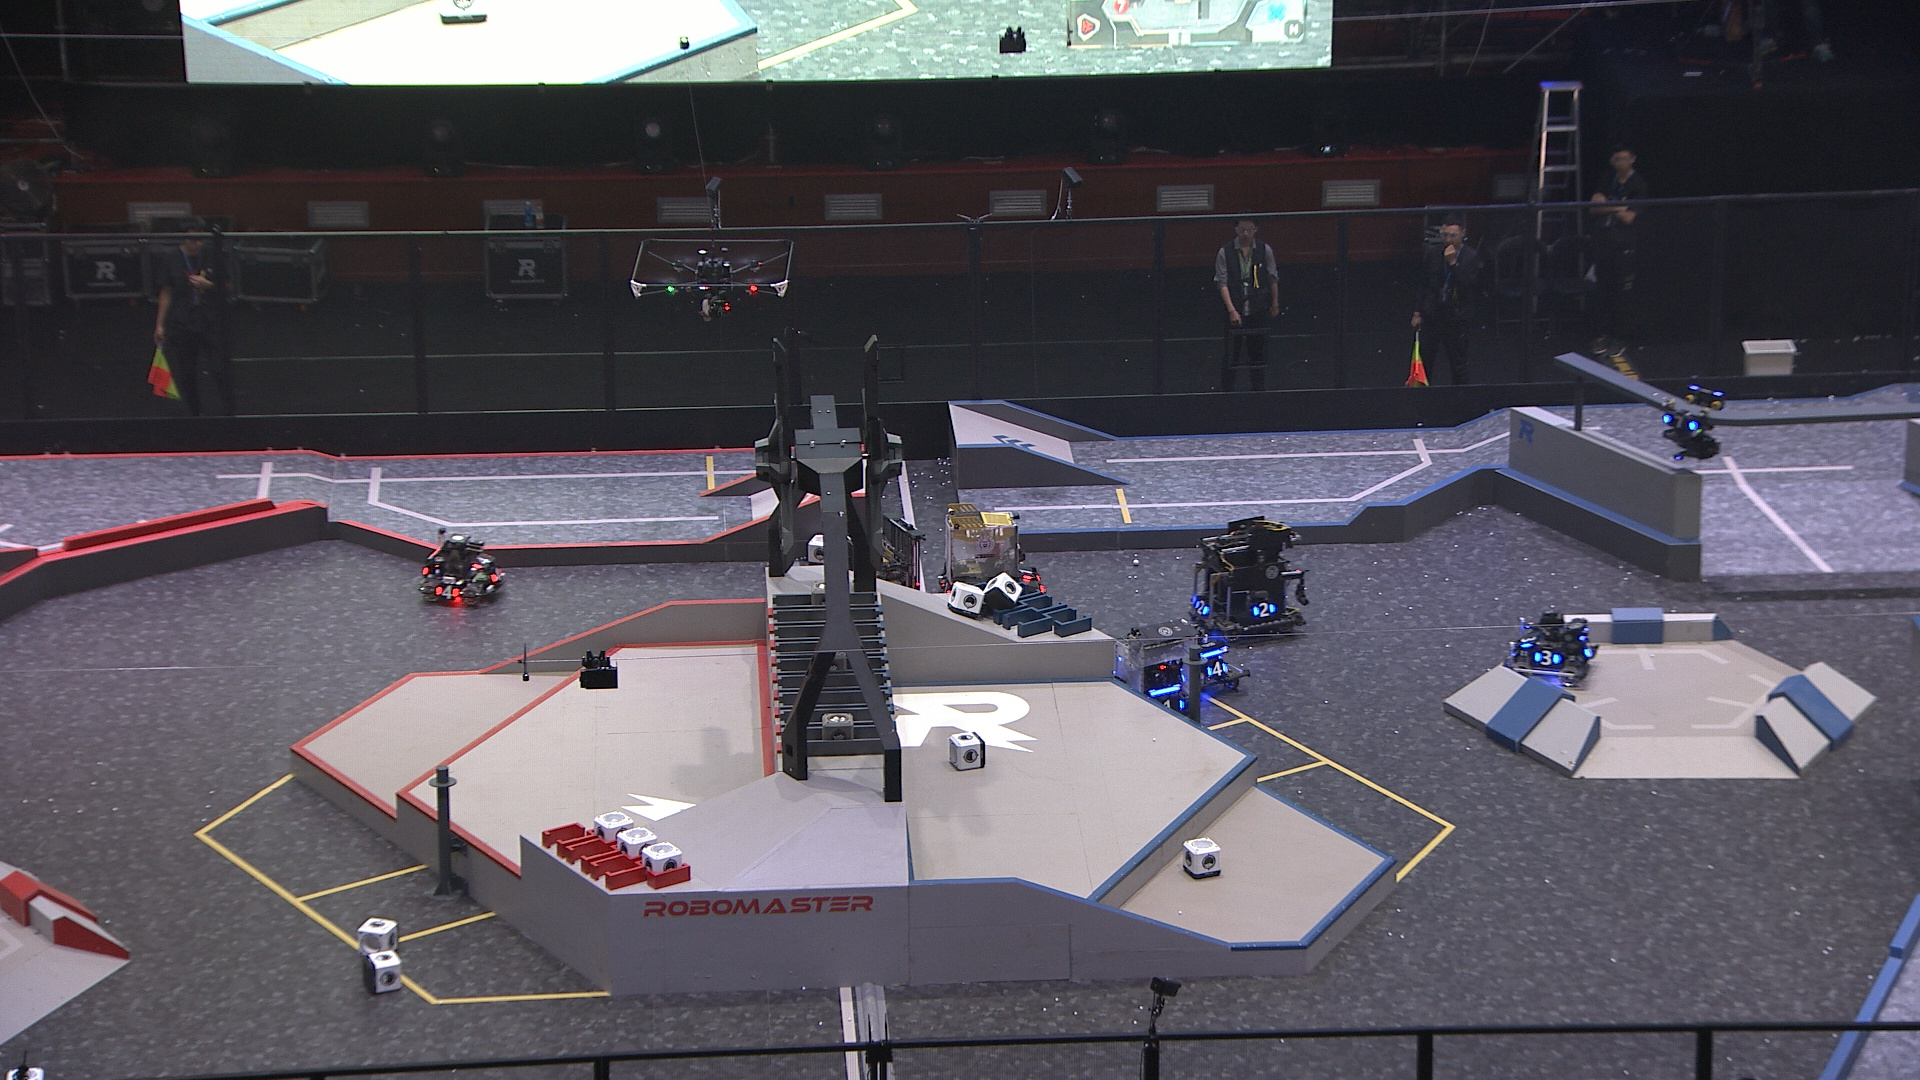armor: (1662, 410, 1697, 431), (1532, 647, 1557, 669), (1204, 659, 1230, 678), (1158, 695, 1188, 711), (1518, 629, 1539, 647), (1253, 603, 1276, 618), (433, 585, 458, 600), (473, 551, 491, 572), (1019, 564, 1033, 588), (1581, 638, 1596, 659), (1193, 599, 1211, 616), (489, 567, 504, 584)
car: (1183, 513, 1305, 646), (1096, 615, 1211, 731), (934, 498, 1051, 607), (823, 512, 928, 618), (1503, 603, 1602, 687), (415, 531, 508, 604), (1174, 622, 1250, 698)
watcher: (1660, 382, 1726, 463)
